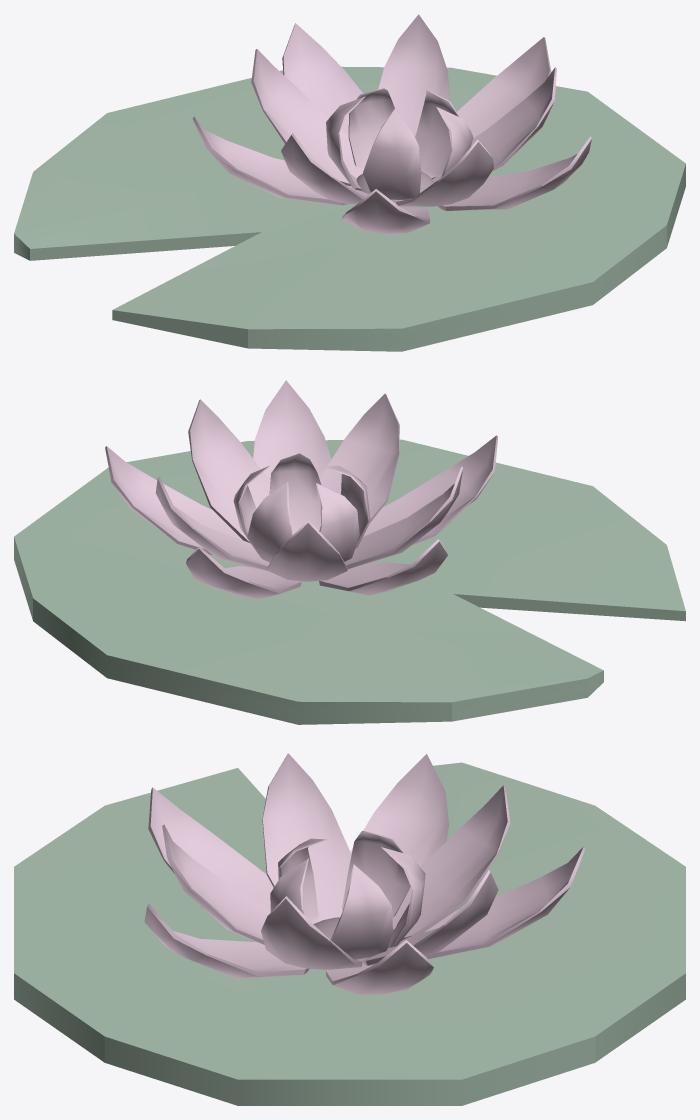
Rendered from nenuphar.fbx.
The picture shows the model from 3 angles, top to bottom: view 1: azimuth 30°, elevation 25°; view 2: azimuth 150°, elevation 25°; view 3: azimuth 270°, elevation 25°; orthographic projection. The views are drawn at different scales.
Visible parts, largest first — view 1: nenuphar, pCube109, pCube108, pCube102, pCube103, pCube117, pCube106, pCube104, pCube107, pCube111, pCube105, pCube115 (+4 smaller); view 2: nenuphar, pCube107, pCube111, pCube104, pCube105, pCube103, pCube110, pCube109, pCube106, pCube102, pCube114, pCube108 (+4 smaller); view 3: nenuphar, pCube110, pCube109, pCube106, pCube105, pCube102, pCube111, pCube104, pCube107, pCube115, pCube103, pCube112 (+4 smaller).
Part boxes in pixels (x1,y1,x2,y2): nenuphar: [14, 66, 685, 351]; pCube109: [251, 49, 363, 186]; pCube108: [378, 14, 449, 136]; pCube102: [282, 23, 363, 135]; pCube103: [457, 37, 551, 137]; pCube117: [363, 108, 421, 200]; pCube106: [192, 116, 351, 205]; pCube104: [438, 136, 591, 210]; pCube107: [432, 67, 556, 181]; pCube111: [396, 139, 493, 206]; pCube105: [342, 189, 430, 234]; pCube115: [415, 90, 459, 178]; nenuphar: [14, 439, 685, 724]; pCube107: [188, 399, 270, 543]; pCube111: [319, 393, 399, 530]; pCube104: [253, 380, 331, 481]; pCube105: [363, 435, 497, 544]; pCube103: [105, 446, 242, 555]; pCube110: [344, 466, 463, 568]; pCube109: [267, 520, 347, 581]; pCube106: [319, 539, 447, 595]; pCube102: [186, 546, 301, 599]; pCube114: [269, 453, 321, 534]; pCube108: [155, 476, 269, 571]; nenuphar: [14, 762, 685, 1105]; pCube110: [262, 753, 351, 921]; pCube109: [392, 785, 510, 940]; pCube106: [350, 754, 448, 866]; pCube105: [148, 787, 273, 908]; pCube102: [424, 846, 585, 959]; pCube111: [162, 824, 270, 945]; pCube104: [144, 903, 309, 978]; pCube107: [261, 896, 362, 969]; pCube115: [331, 864, 392, 959]; pCube103: [325, 940, 433, 994]; pCube112: [342, 831, 410, 917].
Size of the model in its own units: 1.12 by 0.2448 by 1.
